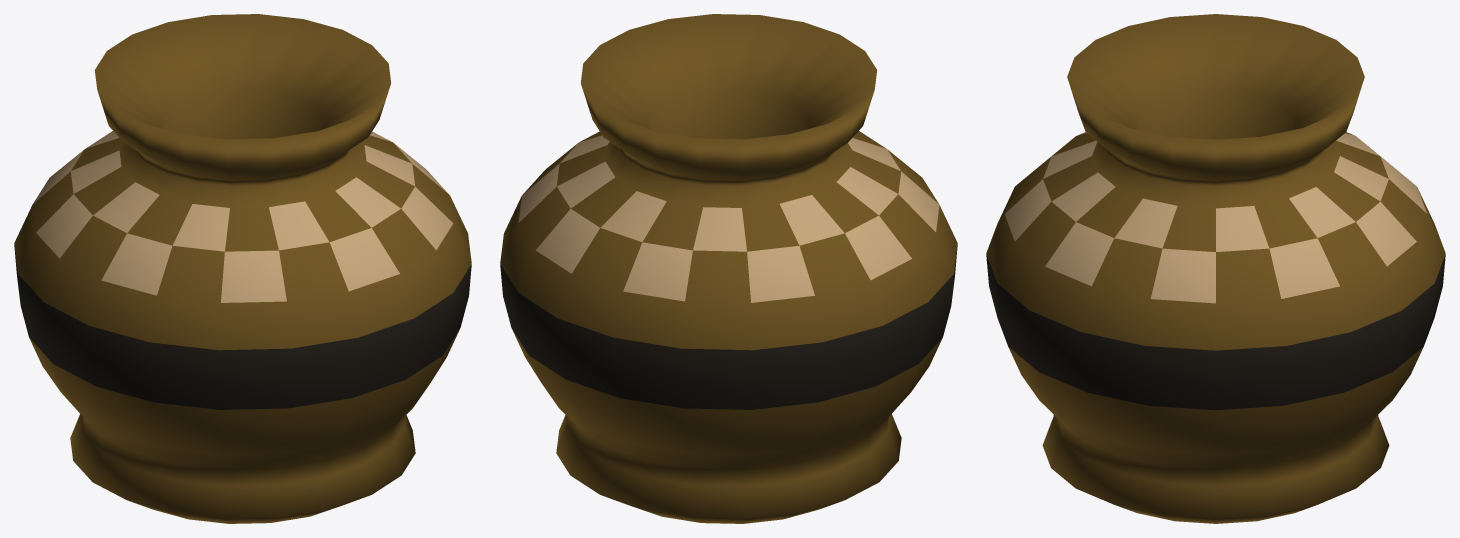
The model's file is Pot.fbx.
3 renders of one model, left to right at view 1: azimuth 30°, elevation 25°; view 2: azimuth 150°, elevation 25°; view 3: azimuth 270°, elevation 25°, orthographic.
Parts seen in each view (by area): view 1: pSphere1; view 2: pSphere1; view 3: pSphere1.
Boxes of the visible parts, left/top/right/bottom form: pSphere1: left=14, top=14, right=471, bottom=523; pSphere1: left=500, top=14, right=957, bottom=523; pSphere1: left=986, top=14, right=1445, bottom=523.
Bounding box in the file's own units: 2 × 1.87 × 2.
